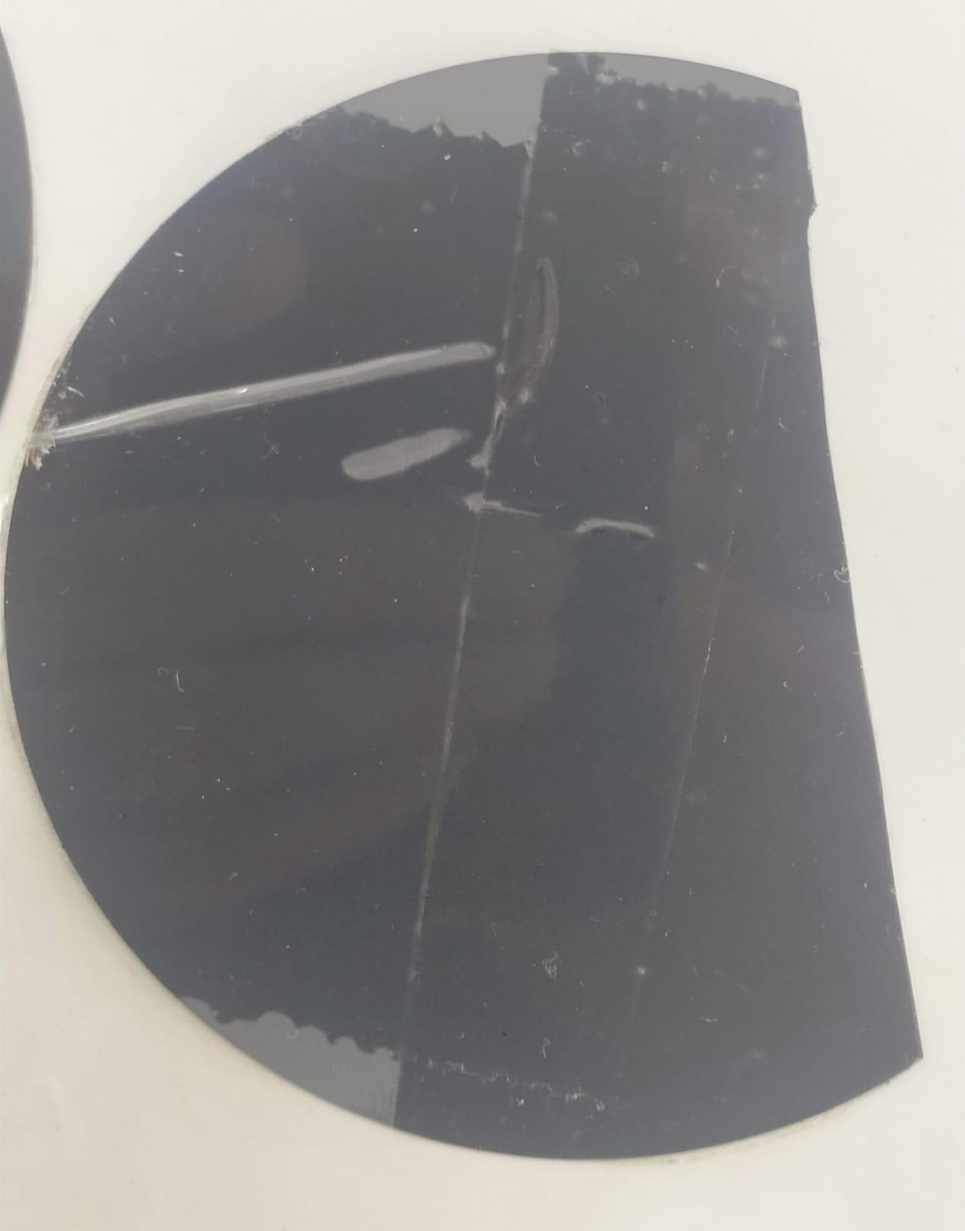crack: (379, 126, 555, 1076)
scratch: (26, 329, 517, 454), (334, 404, 483, 499), (558, 500, 669, 550)
